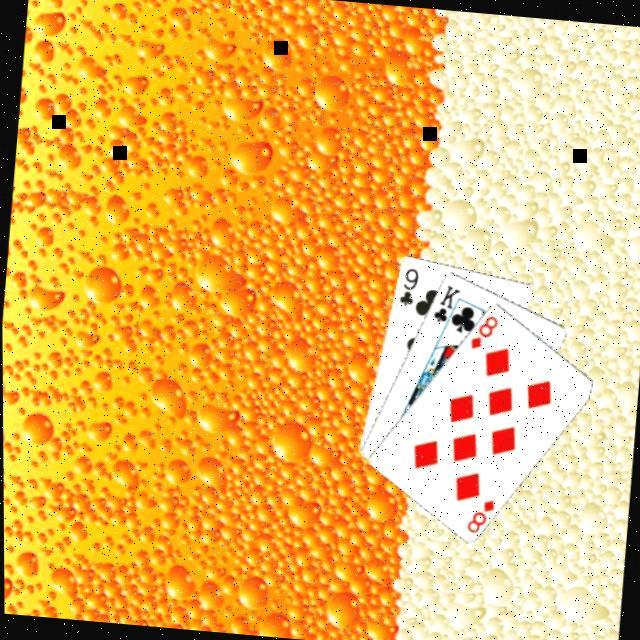8D: (466, 309, 502, 353), (462, 493, 497, 536)
9C: (394, 262, 422, 308)
KC: (428, 280, 464, 332)
